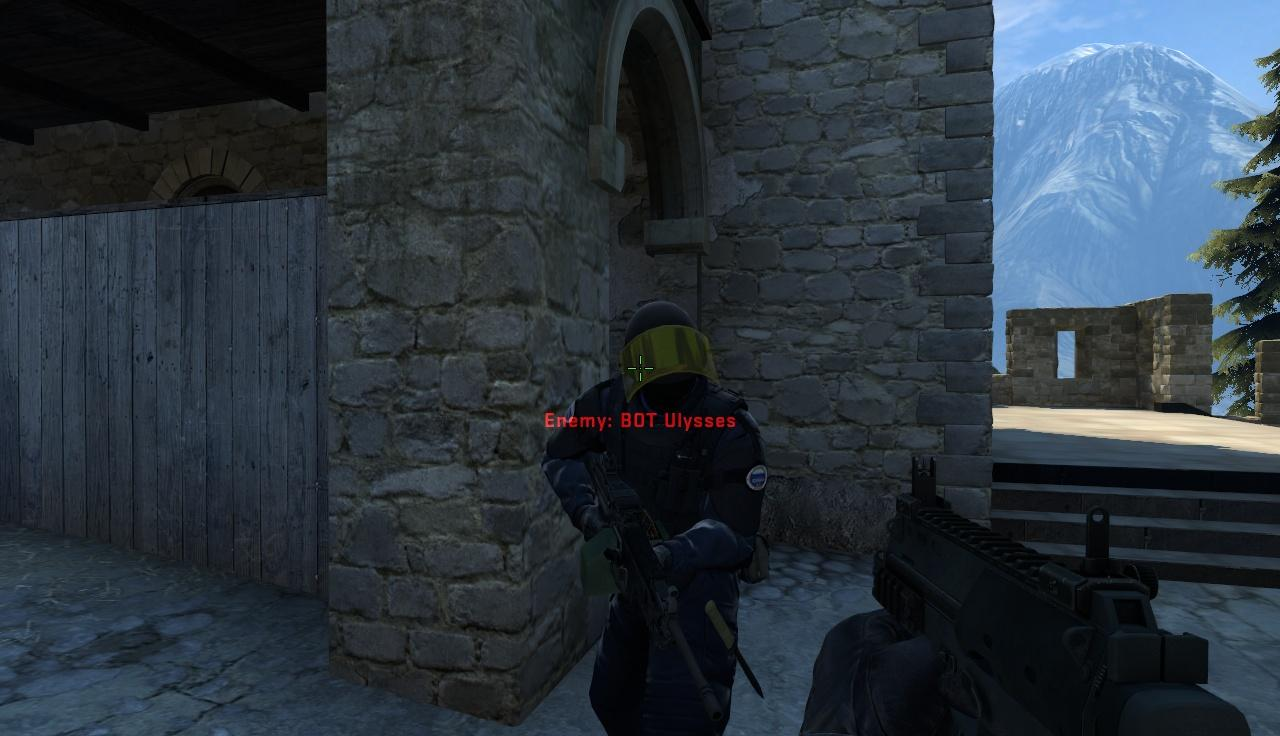ct: (581, 299, 751, 736)
cthead: (618, 303, 720, 406)
rifle: (861, 451, 1280, 736)
